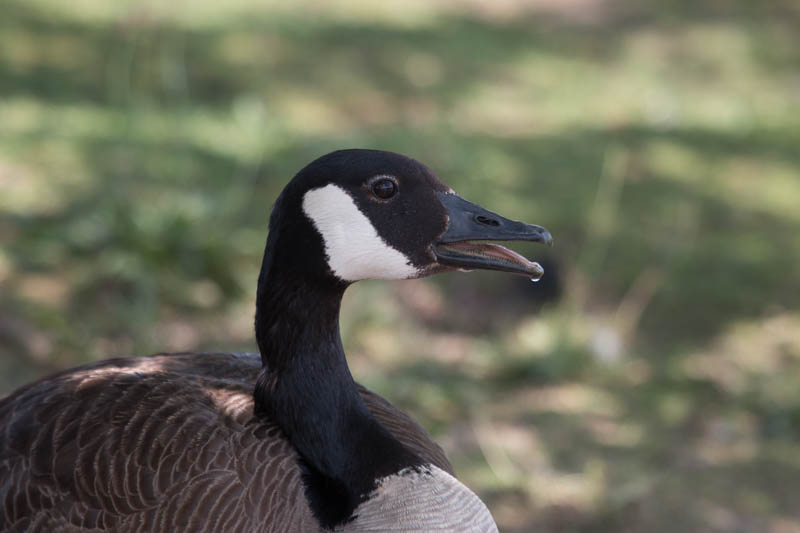goose-head: (259, 148, 553, 282)
